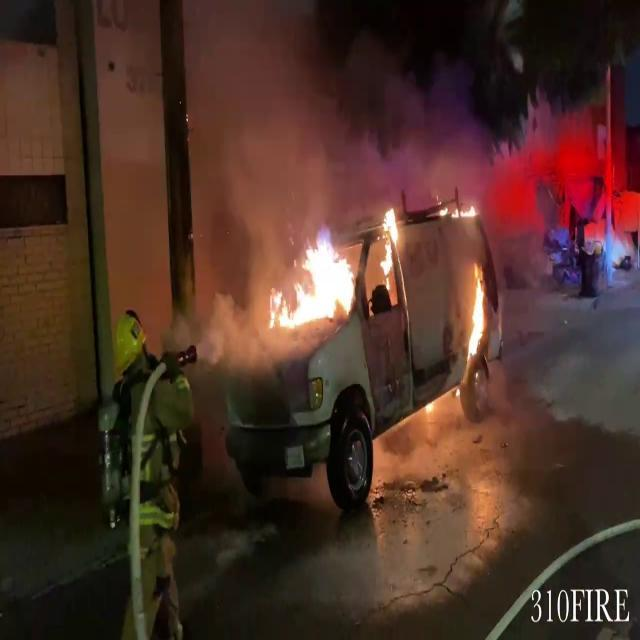Fire: (266, 224, 360, 334), (464, 262, 489, 366), (376, 203, 404, 295)
Smoke: (117, 0, 540, 256)
